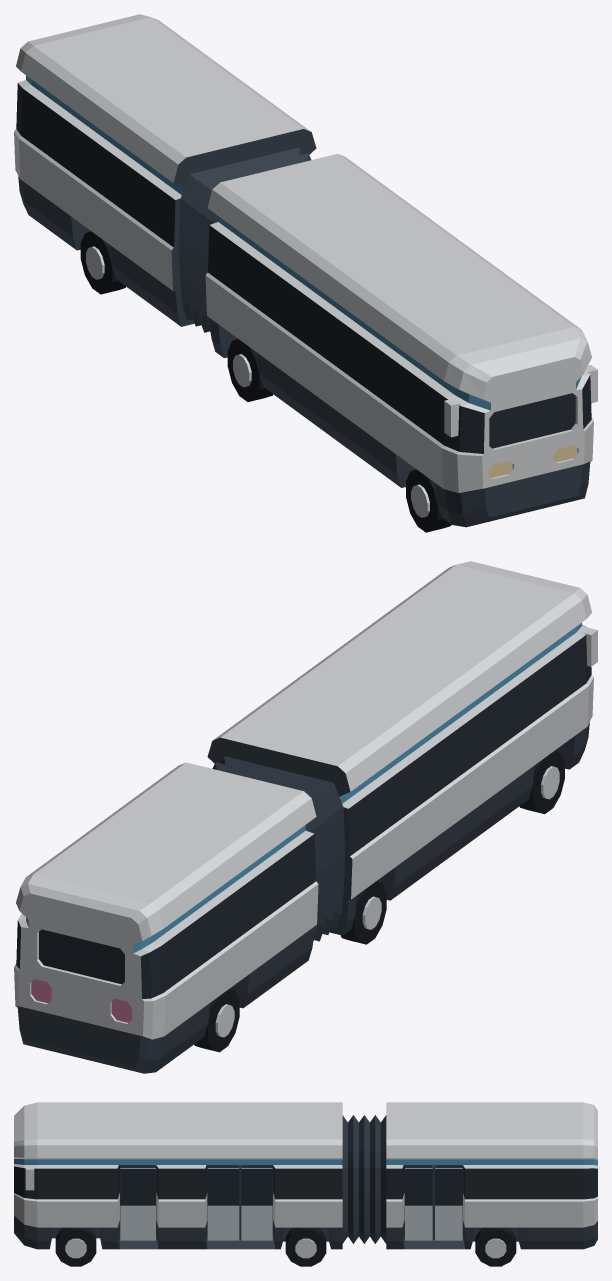
Rendered from articulated-transit-bus-6be725.glb.
The picture shows the model from 3 angles, top to bottom: view 1: azimuth 30°, elevation 25°; view 2: azimuth 150°, elevation 25°; view 3: azimuth 270°, elevation 25°; orthographic projection. The views are drawn at different scales.
Parts seen in each view (by area): view 1: bus-body, tyre-fl, tyre-rl, tyre-ml; view 2: bus-body, tyre-fl, tyre-rl, tyre-ml; view 3: bus-body, door-1-panel, door-2a-panel, door-2b-panel, door-3a-panel, door-3b-panel, tyre-mr, tyre-fr, tyre-rr.
Boxes of the visible parts, x1,y1,x2,y2 form: bus-body: (14, 14, 597, 527); tyre-fl: (406, 469, 451, 532); tyre-rl: (80, 231, 125, 294); tyre-ml: (227, 339, 273, 401); bus-body: (14, 561, 597, 1073); tyre-fl: (519, 751, 564, 814); tyre-rl: (194, 989, 239, 1052); tyre-ml: (340, 881, 386, 944); bus-body: (14, 1102, 597, 1249); door-1-panel: (120, 1168, 155, 1240); door-2a-panel: (207, 1168, 239, 1240); door-2b-panel: (241, 1168, 272, 1240); door-3a-panel: (405, 1168, 432, 1240); door-3b-panel: (435, 1168, 462, 1240); tyre-mr: (285, 1227, 326, 1266); tyre-fr: (55, 1227, 96, 1266); tyre-rr: (475, 1227, 516, 1266).
Size of the model in its own units: 3 by 3.8 by 16.
